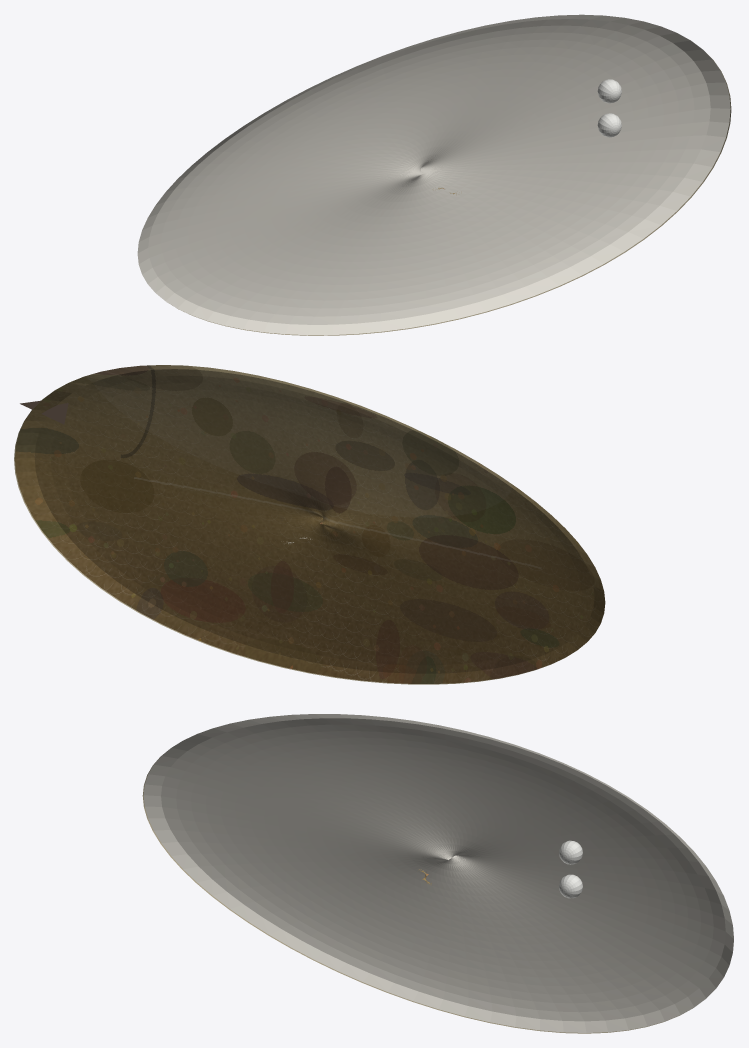
Rendered from summer_flounder_photoreal_style.glb.
The picture shows the model from 3 angles, top to bottom: view 1: azimuth 30°, elevation 25°; view 2: azimuth 150°, elevation 25°; view 3: azimuth 330°, elevation 25°; orthographic projection.
Visible parts, largest first — view 1: world, fringed_edge; view 2: world, fringed_edge; view 3: world, fringed_edge.
Part boxes in pixels (<box>): world: <box>137,14,730,335</box>; fringed_edge: <box>172,53,731,335</box>; world: <box>15,365,605,683</box>; fringed_edge: <box>14,400,570,684</box>; world: <box>143,714,733,1032</box>; fringed_edge: <box>142,754,692,1033</box>.
Bounding box in the file's own units: 3.64 × 1.43 × 0.4302.
1 material, 1 textured.
